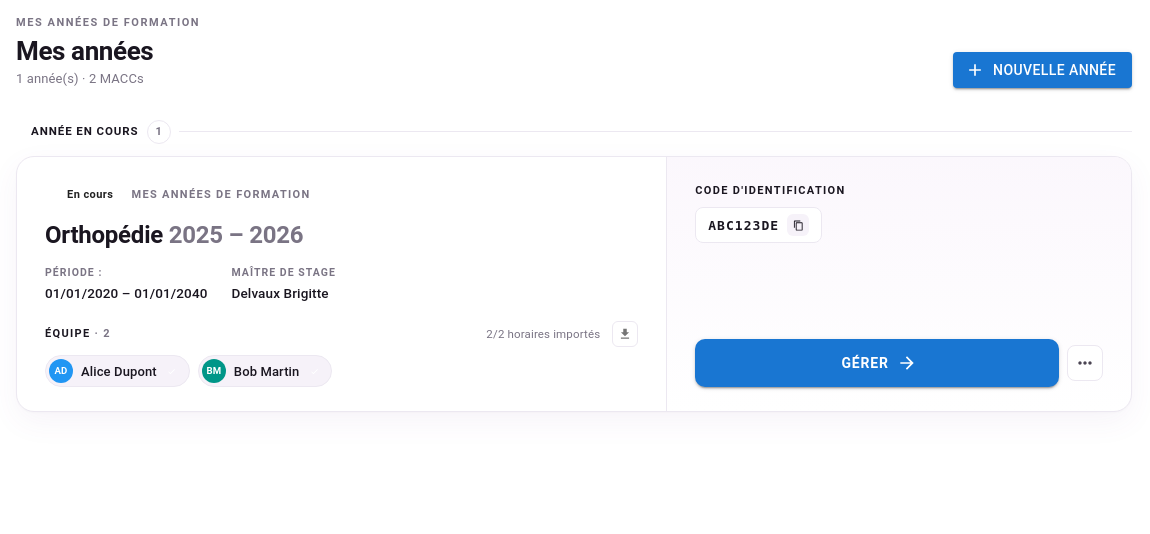
YearCard — grande carte (En cours) › menu : 'Modifier les infos' present si admin = true
This screenshot has width=1150, height=534.
Click the button with test id "MoreHorizIcon": click(1085, 363) [1067, 345, 1103, 381]
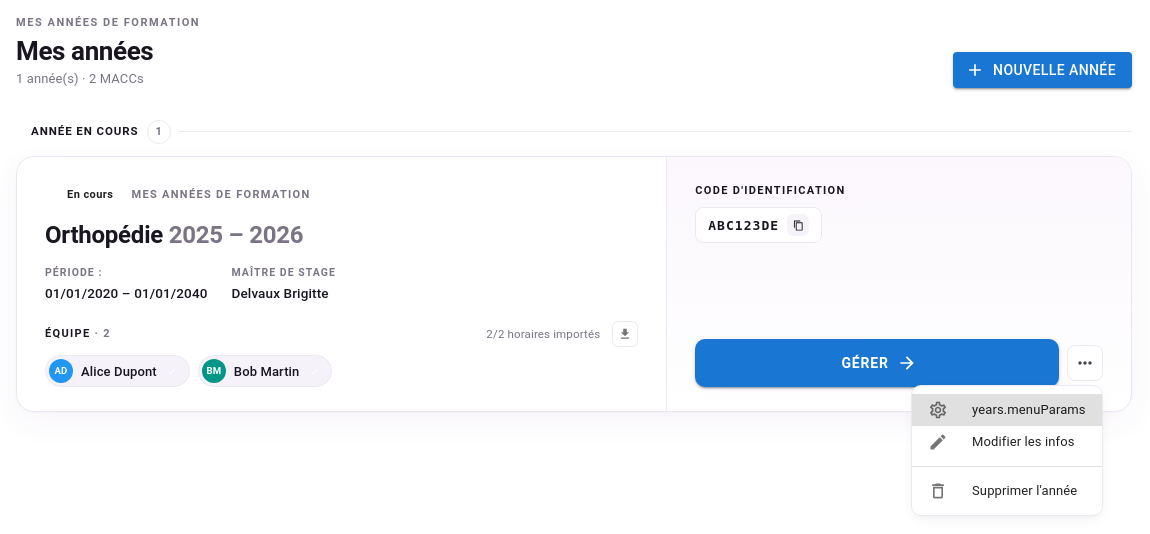
Check: the text "Modifier les infos" is shown, box [972, 432, 1086, 452]
